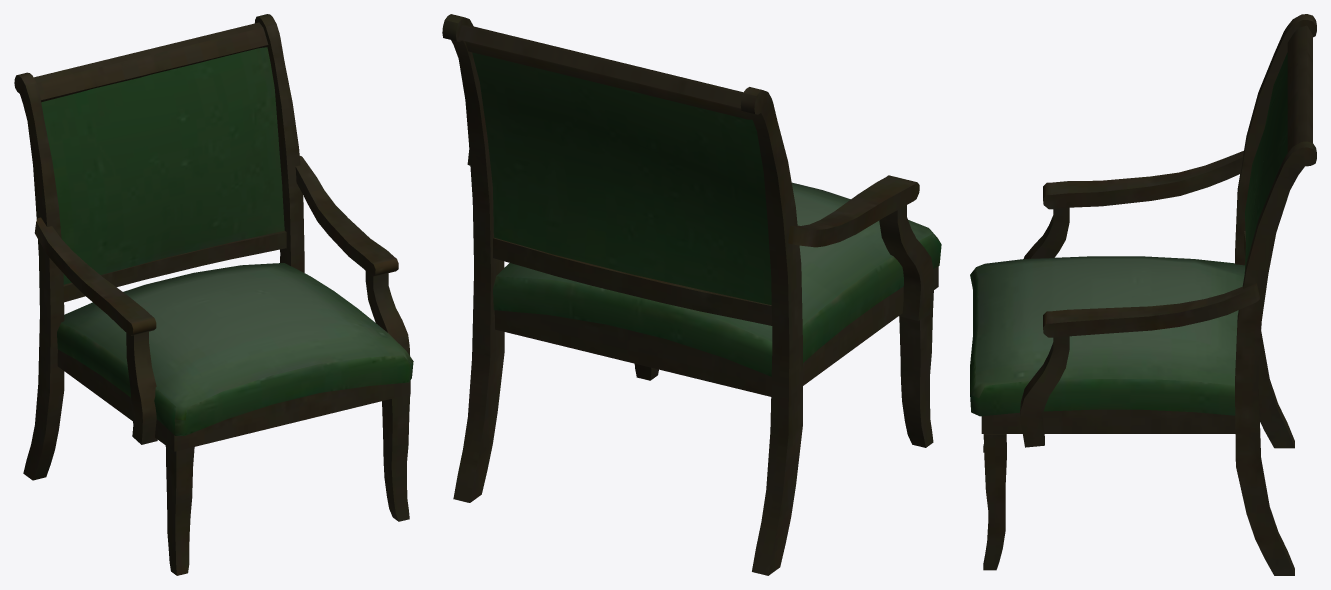
File: chair.glb
The picture shows the model from 3 angles, left to right: view 1: azimuth 30°, elevation 25°; view 2: azimuth 150°, elevation 25°; view 3: azimuth 270°, elevation 25°; orthographic projection. The views are drawn at different scales.
Parts seen in each view (by area): view 1: SM_Sandalye; view 2: SM_Sandalye; view 3: SM_Sandalye.
Part boxes in pixels (x1=…): SM_Sandalye: x1=14, y1=14, x2=413, y2=575; SM_Sandalye: x1=442, y1=14, x2=941, y2=575; SM_Sandalye: x1=970, y1=14, x2=1316, y2=575.
Size of the model in its own units: 1.71 by 2.39 by 1.76.
Materials: 1 (1 with a texture image).
